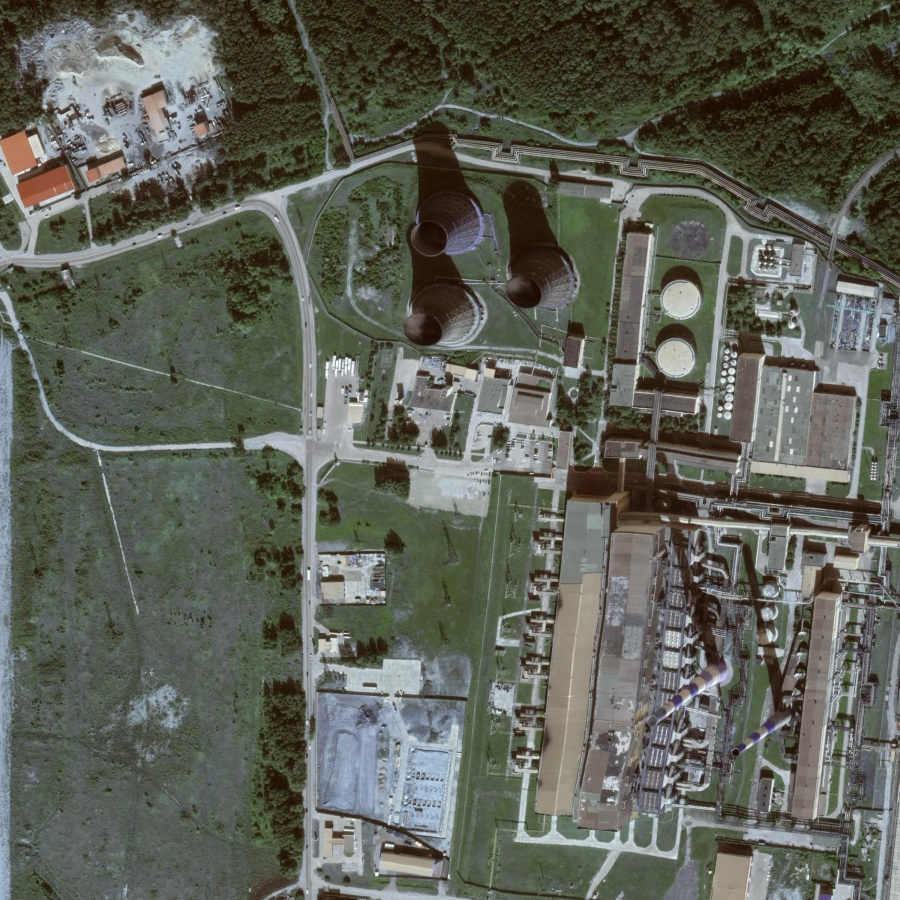PowerPlant: (391, 109, 723, 423), (616, 459, 870, 787)
